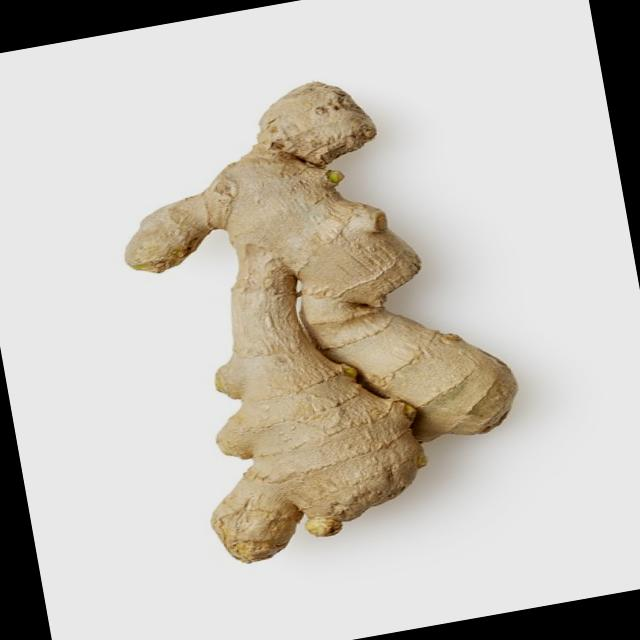ginger-root: (75, 24, 562, 588)
